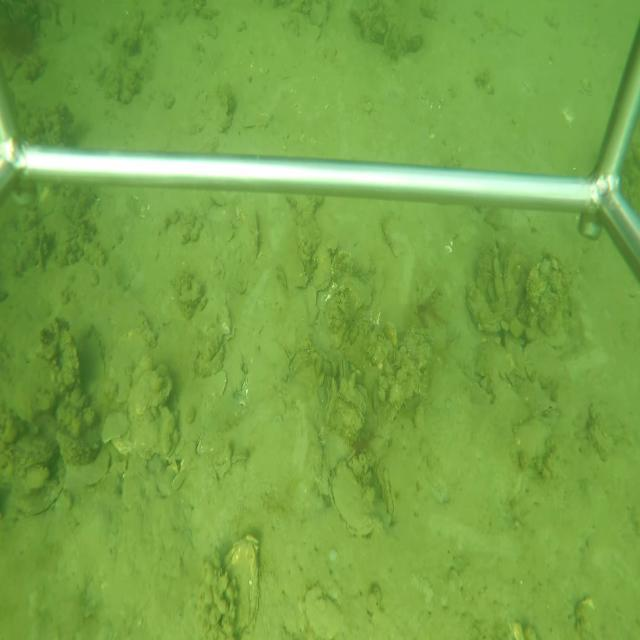Oyster-Closed: (222, 535, 262, 636), (328, 458, 376, 539), (135, 360, 174, 417), (467, 281, 505, 338), (332, 394, 368, 438), (417, 279, 440, 313), (251, 213, 262, 263), (387, 472, 397, 524), (339, 353, 347, 379)
Oyster-Indeterminate: (302, 584, 348, 639), (380, 212, 407, 259), (312, 243, 332, 290), (308, 283, 320, 326)
